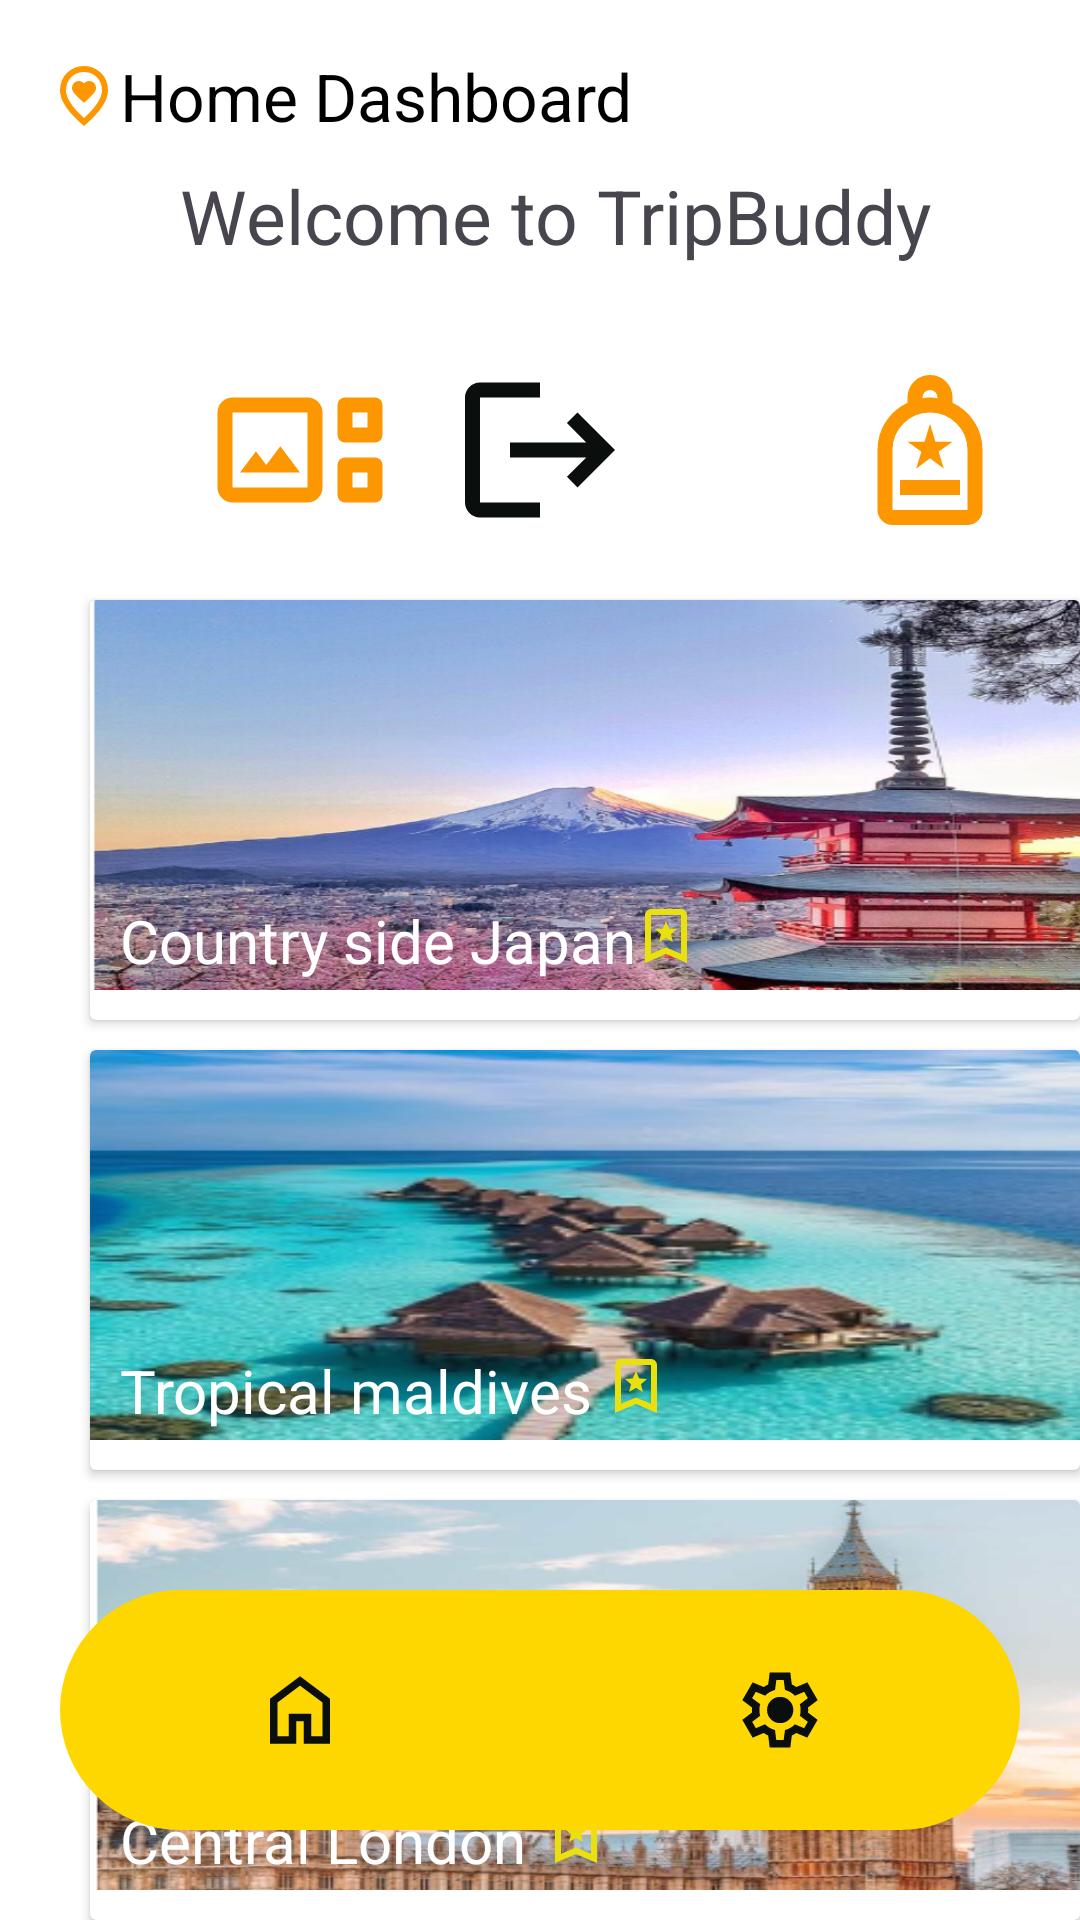

Icons on this 1080w x 1920h Android screen, each with the point to tap as (x=x, y=y):
gallery thumbnail: (x=300, y=450)
your trips: (x=930, y=450)
